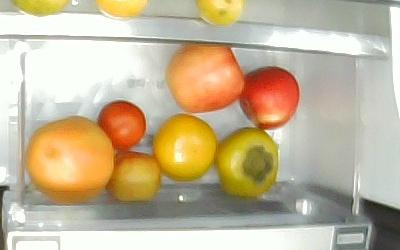apple: (164, 43, 245, 113), (238, 64, 300, 129)
grapefruit: (24, 114, 114, 202)
persimmon: (215, 125, 278, 197), (151, 112, 216, 181)
prune: (104, 150, 161, 202), (95, 99, 147, 151)
